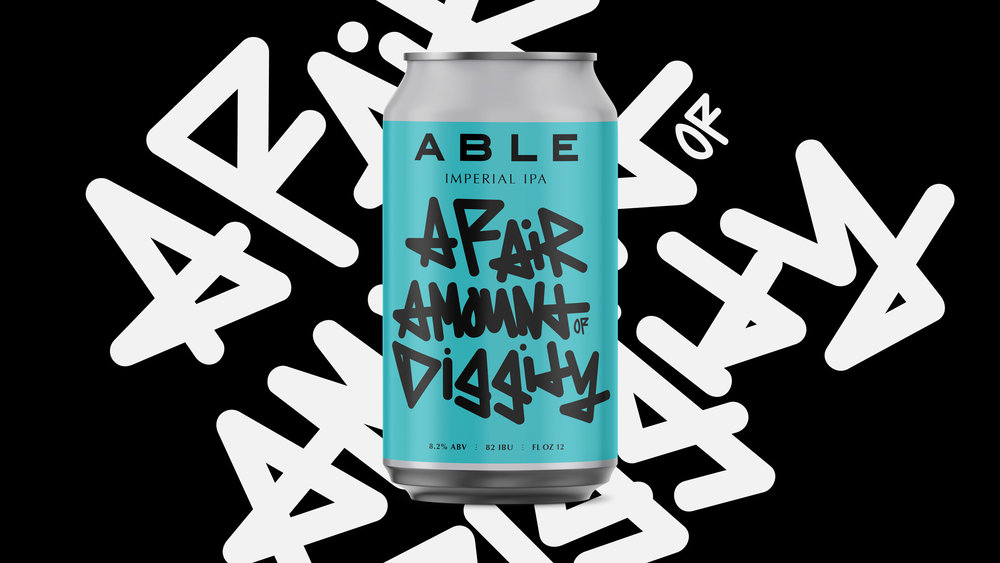beer can: (382, 51, 619, 505)
